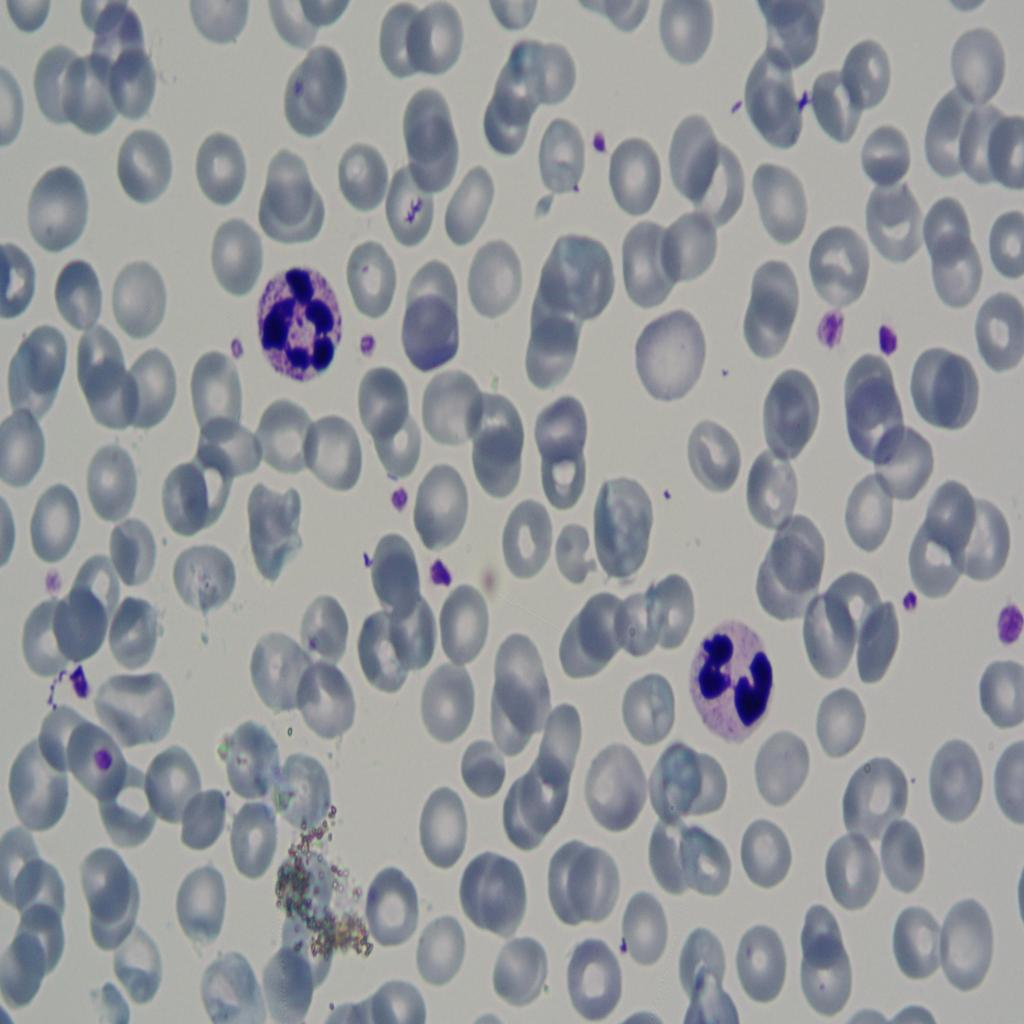Neutrofil: (682, 616, 776, 745), (250, 260, 338, 392)
Platelet: (870, 293, 902, 371), (36, 556, 71, 620), (896, 575, 931, 628), (426, 548, 460, 602), (813, 300, 844, 353), (996, 594, 1024, 649), (390, 474, 417, 530), (579, 117, 607, 170), (221, 325, 249, 373), (67, 664, 97, 708), (351, 320, 381, 358), (96, 736, 116, 772)
